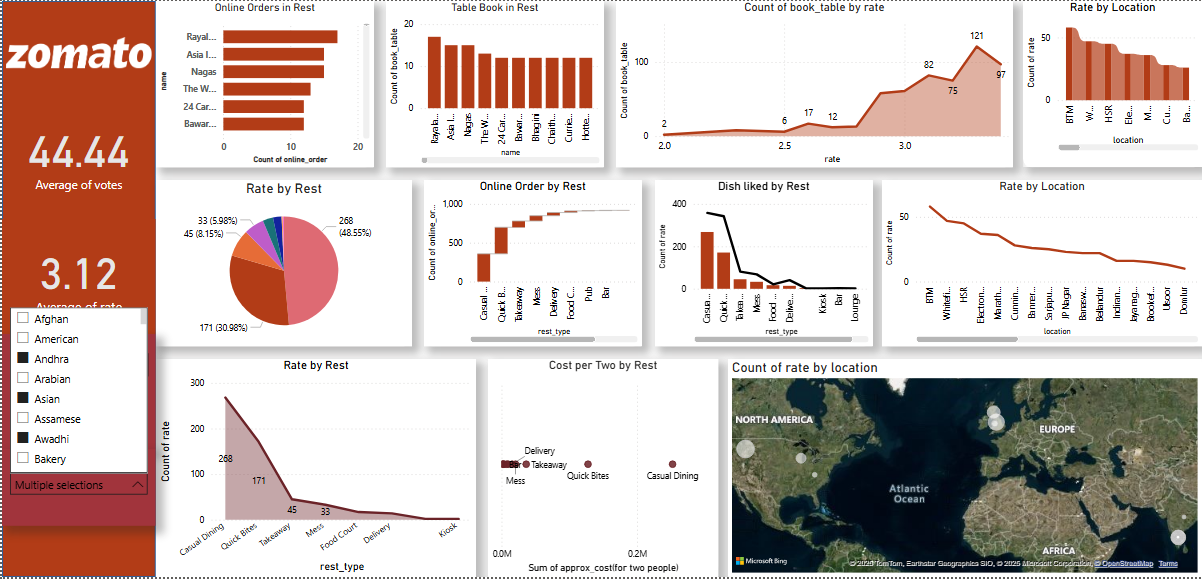

The page's visual inventory and layout, read from the dashboard file:
{"tool":"powerbi","page":{"name":"Page 1","canvas":[1500,720],"ordinal":0},"visuals":[{"type":"shape","box":[0,0,192,720],"z":0},{"type":"shape","box":[192,0,272,208],"z":1000},{"type":"shape","box":[480,0,272,208],"z":2000},{"type":"shape","box":[768,0,496,208],"z":3000},{"type":"shape","box":[1276,0,224,208],"z":4000},{"type":"shape","box":[192,224,320,208],"z":5000},{"type":"shape","box":[528,224,272,208],"z":6000},{"type":"shape","box":[816,224,272,208],"z":7000},{"type":"shape","box":[1100,224,400,208],"z":8000},{"type":"shape","box":[192,448,400,272],"z":9000},{"type":"shape","box":[608,448,288,272],"z":10000},{"type":"shape","box":[908,448,592,272],"z":11000},{"type":"barChart","title":"Online Orders in Rest","fields":{"Category":["zomato.name"],"Y":["CountNonNull(zomato.online_order)"]},"box":[192,0,272,208],"z":12000},{"type":"columnChart","title":"Table Book in Rest","fields":{"Y":["CountNonNull(zomato.book_table)"],"Category":["zomato.name"]},"box":[480,0,272,208],"z":13000},{"type":"lineChart","fields":{"Category":["zomato.rate"],"Y":["CountNonNull(zomato.book_table)"]},"box":[768,0,496,208],"z":14000},{"type":"map","fields":{"Category":["zomato.location"],"Size":["CountNonNull(zomato.rate)"]},"box":[908,448,592,272],"z":15000},{"type":"lineChart","title":"Rate by Location","fields":{"Category":["zomato.location"],"Y":["CountNonNull(zomato.rate)"]},"box":[1100,224,400,208],"z":16000},{"type":"pieChart","title":"Rate by Rest","fields":{"Category":["zomato.rest_type"],"Y":["CountNonNull(zomato.rate)"]},"box":[192,224,320,208],"z":17000},{"type":"stackedAreaChart","title":"Rate by Rest","fields":{"Y":["CountNonNull(zomato.rate)"],"Category":["zomato.rest_type"]},"box":[192,448,400,272],"z":18000},{"type":"waterfallChart","title":"Online Order by Rest","fields":{"Category":["zomato.rest_type"],"Y":["CountNonNull(zomato.online_order)"]},"box":[528,224,272,208],"z":19000},{"type":"lineStackedColumnComboChart","title":"Dish liked by Rest","fields":{"Category":["zomato.rest_type"],"Y":["CountNonNull(zomato.rate)"],"Y2":["CountNonNull(zomato.dish_liked)"]},"box":[816,224,272,208],"z":20000},{"type":"scatterChart","title":"Cost per Two by Rest","fields":{"Category":["zomato.rest_type"],"X":["Sum(zomato.approx_cost(for two people))"]},"box":[608,448,288,272],"z":21000},{"type":"ribbonChart","title":"Rate by Location","fields":{"Category":["zomato.location"],"Y":["CountNonNull(zomato.rate)"]},"box":[1276,0,224,192],"z":22000},{"type":"image","box":[0,0,192,128],"z":22001},{"type":"card","fields":{"Values":["Avg(zomato.votes)"]},"box":[0,128,192,128],"z":22002},{"type":"card","fields":{"Values":["Avg(zomato.rate)"]},"box":[0,272,192,144],"z":22003},{"type":"slicer","fields":{"Values":["zomato.rate"]},"box":[0,416,192,144],"z":22004},{"type":"slicer","fields":{"Values":["zomato.cuisines"]},"box":[0,560,192,96],"z":22005}]}

Visuals, with their boxes in screenshot pixels (x1, y1, x2, y2), scaled from the page's 1500x720 canvas onto the 1202x579 screenshot:
shape: (x1=0, y1=0, x2=154, y2=578)
shape: (x1=154, y1=0, x2=372, y2=167)
shape: (x1=385, y1=0, x2=603, y2=167)
shape: (x1=615, y1=0, x2=1013, y2=167)
shape: (x1=1023, y1=0, x2=1201, y2=167)
shape: (x1=154, y1=180, x2=410, y2=347)
shape: (x1=423, y1=180, x2=641, y2=347)
shape: (x1=654, y1=180, x2=872, y2=347)
shape: (x1=881, y1=180, x2=1201, y2=347)
shape: (x1=154, y1=360, x2=474, y2=578)
shape: (x1=487, y1=360, x2=718, y2=578)
shape: (x1=728, y1=360, x2=1201, y2=578)
"Online Orders in Rest" barChart: (x1=154, y1=0, x2=372, y2=167)
"Table Book in Rest" columnChart: (x1=385, y1=0, x2=603, y2=167)
lineChart - zomato.rate x CountNonNull(zomato.book_table): (x1=615, y1=0, x2=1013, y2=167)
map - zomato.location x CountNonNull(zomato.rate): (x1=728, y1=360, x2=1201, y2=578)
"Rate by Location" lineChart: (x1=881, y1=180, x2=1201, y2=347)
"Rate by Rest" pieChart: (x1=154, y1=180, x2=410, y2=347)
"Rate by Rest" stackedAreaChart: (x1=154, y1=360, x2=474, y2=578)
"Online Order by Rest" waterfallChart: (x1=423, y1=180, x2=641, y2=347)
"Dish liked by Rest" lineStackedColumnComboChart: (x1=654, y1=180, x2=872, y2=347)
"Cost per Two by Rest" scatterChart: (x1=487, y1=360, x2=718, y2=578)
"Rate by Location" ribbonChart: (x1=1023, y1=0, x2=1201, y2=154)
image: (x1=0, y1=0, x2=154, y2=103)
card - Avg(zomato.votes): (x1=0, y1=103, x2=154, y2=206)
card - Avg(zomato.rate): (x1=0, y1=219, x2=154, y2=335)
slicer - zomato.rate: (x1=0, y1=335, x2=154, y2=450)
slicer - zomato.cuisines: (x1=0, y1=450, x2=154, y2=528)
